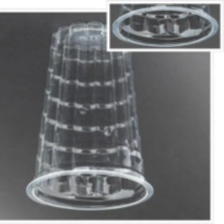glass: (21, 16, 160, 216), (110, 0, 219, 51)
